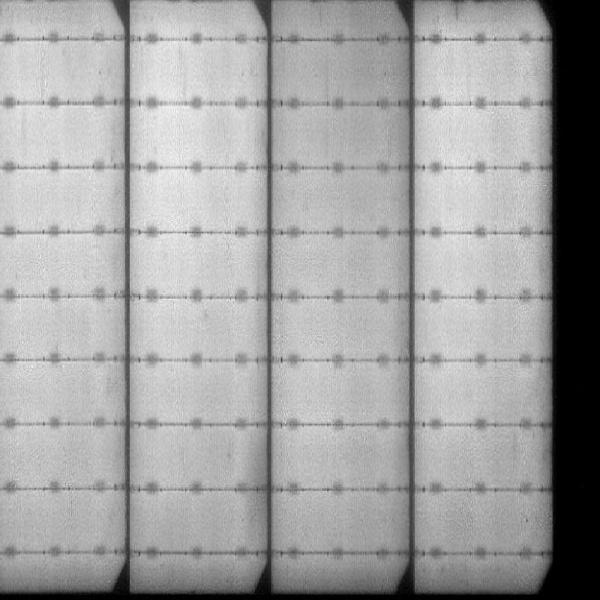no_electricity: (551, 1, 599, 596)
